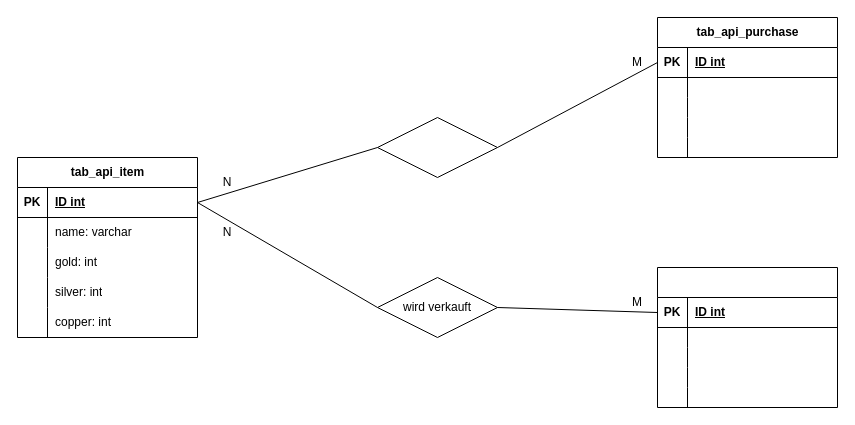
Image size: 855x425. Some labels were removed from this diagram. Each missing label, with the box of its shape:
tab_api_sale: (656, 266, 838, 408)
wird gekauft: (376, 116, 498, 178)
